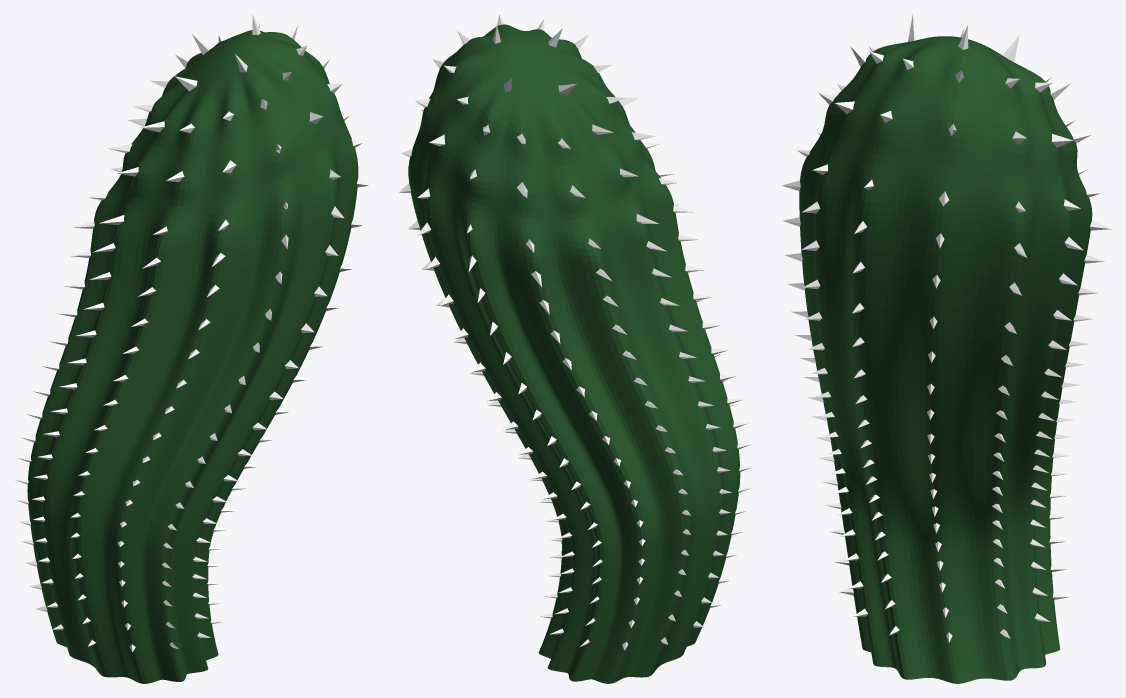
File: goofy_cactus__mais_torto.fbx
3 renders of one model, left to right at view 1: azimuth 30°, elevation 25°; view 2: azimuth 150°, elevation 25°; view 3: azimuth 270°, elevation 25°, orthographic. The views are drawn at different scales.
Parts seen in each view (by area): view 1: Sphere.001; view 2: Sphere.001; view 3: Sphere.001.
Boxes of the visible parts, box(x1,y1,x2,y2) form: Sphere.001: box(15, 14, 368, 683); Sphere.001: box(399, 14, 751, 683); Sphere.001: box(782, 14, 1111, 683).
Bounding box in the file's own units: 484 × 884 × 384.
